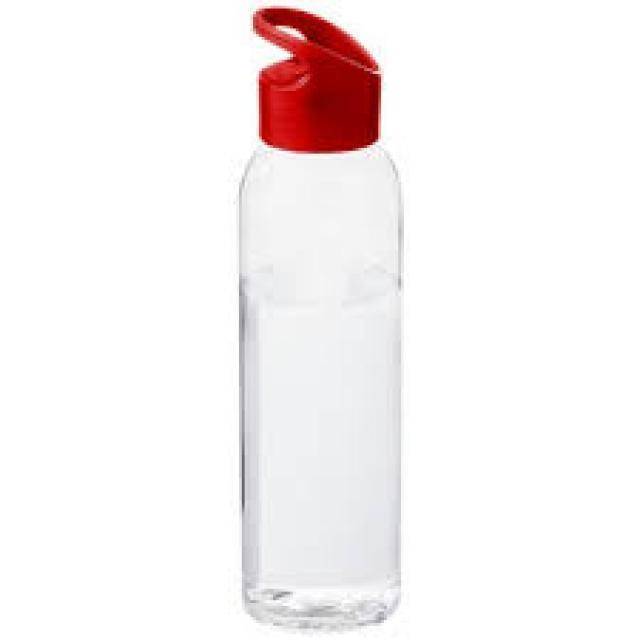Plastic: (230, 9, 400, 626)
